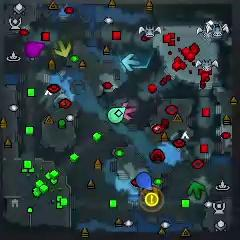Other: (145, 192, 160, 207)
p1: (136, 172, 153, 191)
p2: (108, 107, 126, 123)
p3: (25, 41, 45, 58)
x1: (121, 103, 138, 121)
x2: (55, 40, 72, 58)
x3: (121, 52, 141, 71)
x4: (187, 181, 206, 199)
